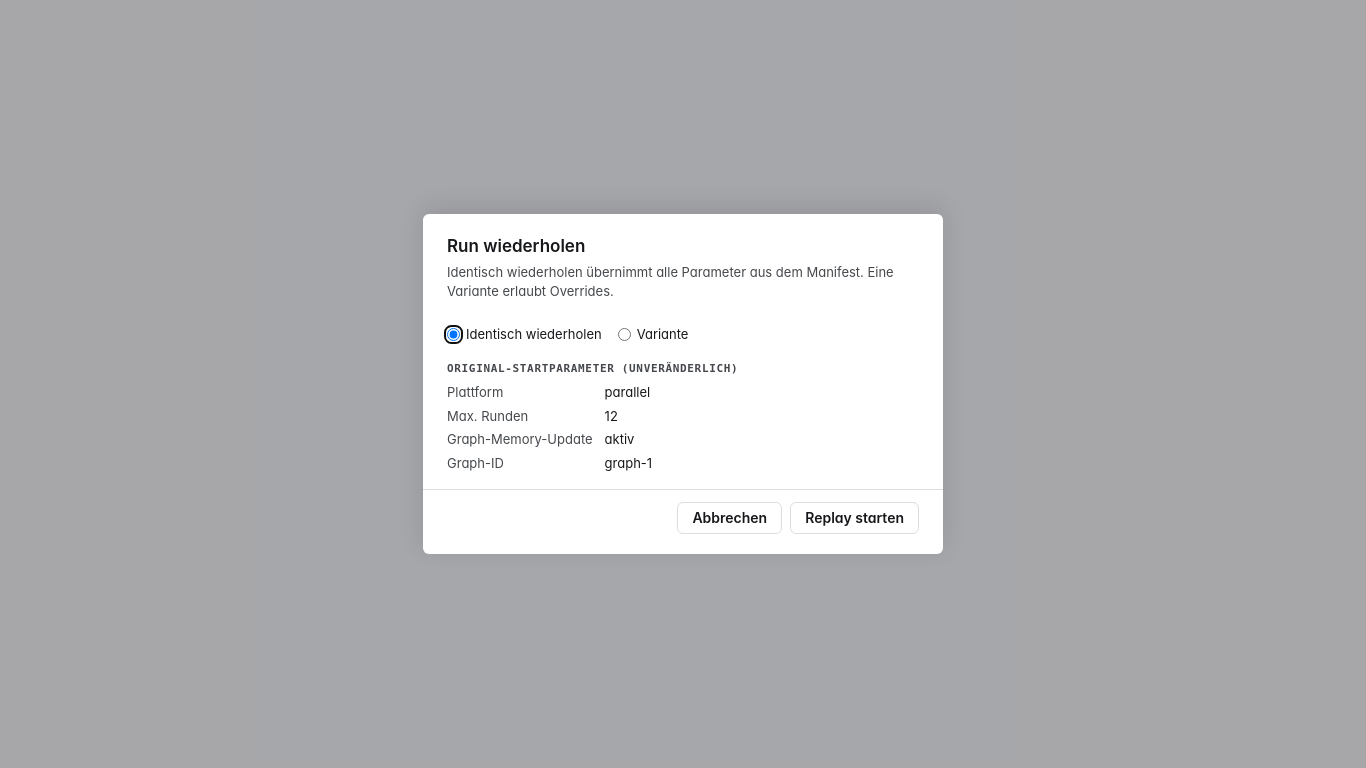
RunReplayDialog › zeigt Abweichungen nach erfolgreichem Replay
The width and height of the screenshot is (1366, 768).
Click the button "Replay starten": (855, 518) [790,502,919,534]
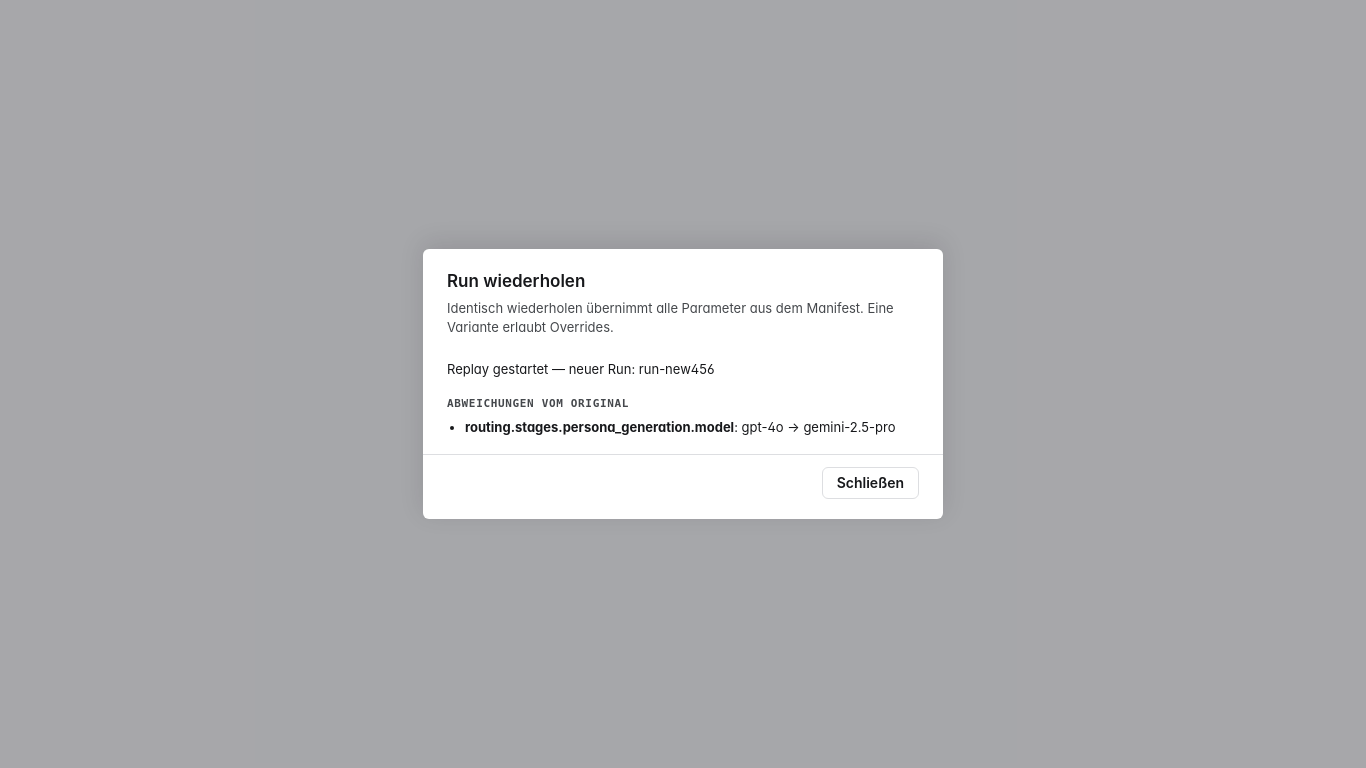
Result: the element with test id "deviations-list" shows "routing.stages.persona_generation.model" at [465,419,734,435]
Result: the element with test id "deviations-list" shows "gpt-4o" at [734,419,896,435]
Result: the element with test id "deviations-list" shows "gemini-2.5-pro" at [734,419,896,435]
